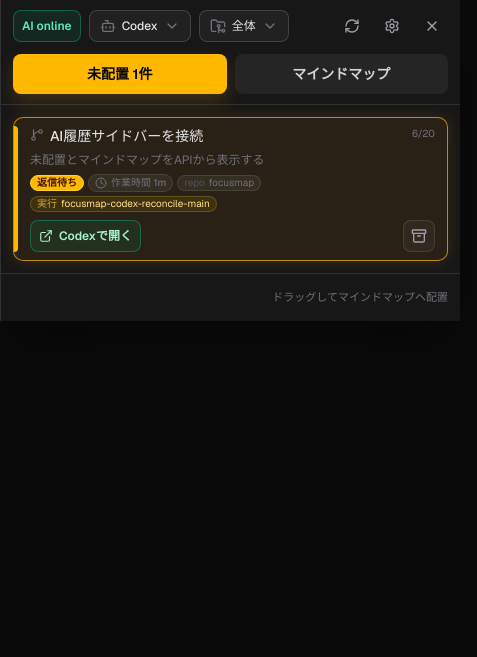
Scenario: CodexChatImportSidebar › shows the parent repo and distinct worktree folder
The width and height of the screenshot is (477, 657).
Expected: the text "repo" is shown, x1=184 y1=178 x2=205 y2=188
Expected: the text "focusmap" is shown, x1=209 y1=178 x2=254 y2=188
Click the button with test id "codex-chat-import-row-history-1" at (230, 189), box x1=13 y1=117 x2=448 y2=261
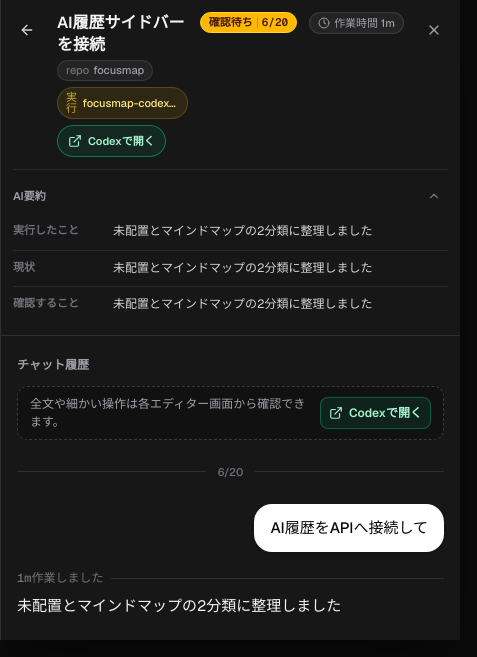
Expected: the text "focusmap-codex-reconcile-main" is shown, x1=83 y1=98 x2=179 y2=108
Expected: the button named "一覧へ戻る" is shown, x1=9 y1=12 x2=45 y2=48
